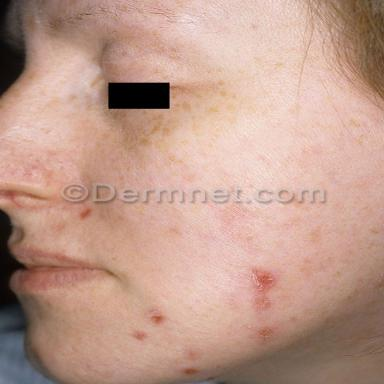acne: (253, 269, 275, 291), (149, 310, 164, 324), (259, 329, 272, 338), (133, 331, 146, 340), (257, 299, 268, 307)
